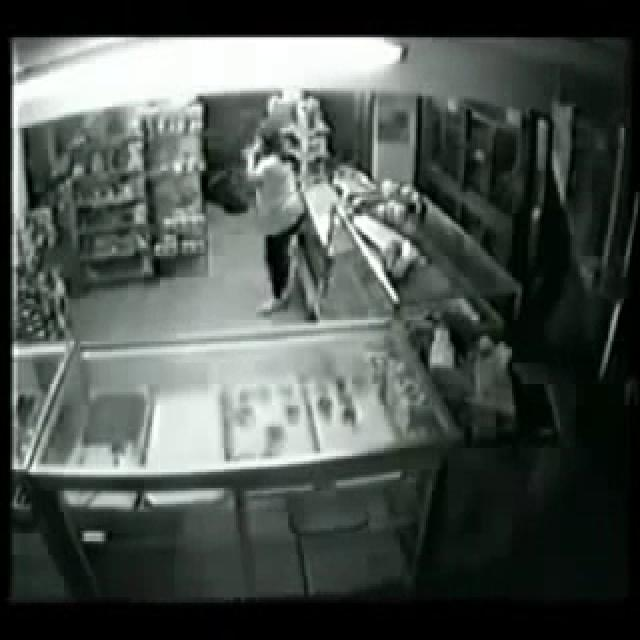shooting: (226, 82, 388, 388)
